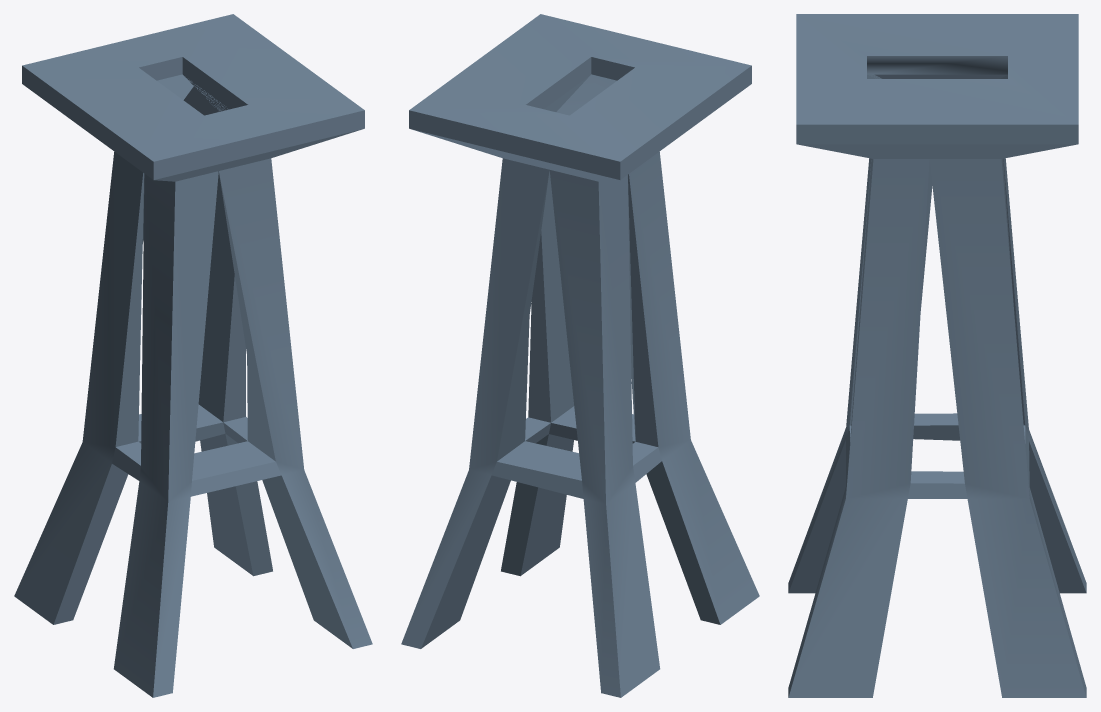
File: stall.fbx
3 renders of one model, left to right at view 1: azimuth 30°, elevation 25°; view 2: azimuth 150°, elevation 25°; view 3: azimuth 270°, elevation 25°, orthographic. The views are drawn at different scales.
Parts seen in each view (by area): view 1: stall; view 2: stall; view 3: stall.
Boxes of the visible parts, x1=… form: stall: x1=14, y1=14, x2=372, y2=697; stall: x1=401, y1=14, x2=759, y2=697; stall: x1=788, y1=14, x2=1086, y2=697.
Bounding box in the file's own units: 45.54 × 106 × 49.85.
